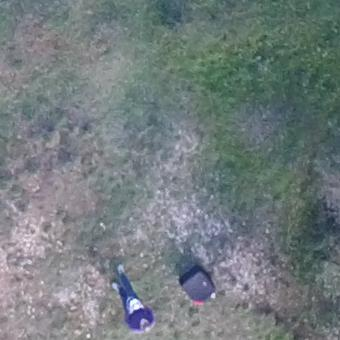human: (106, 260, 156, 334)
